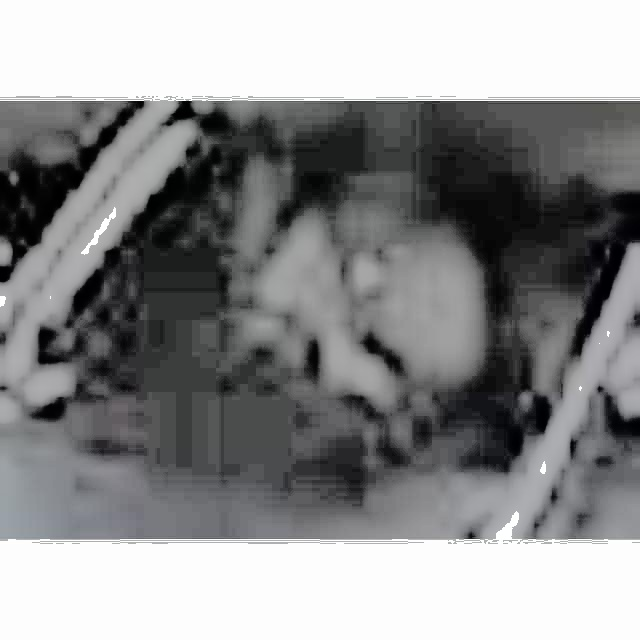pakai: (229, 183, 475, 403)
